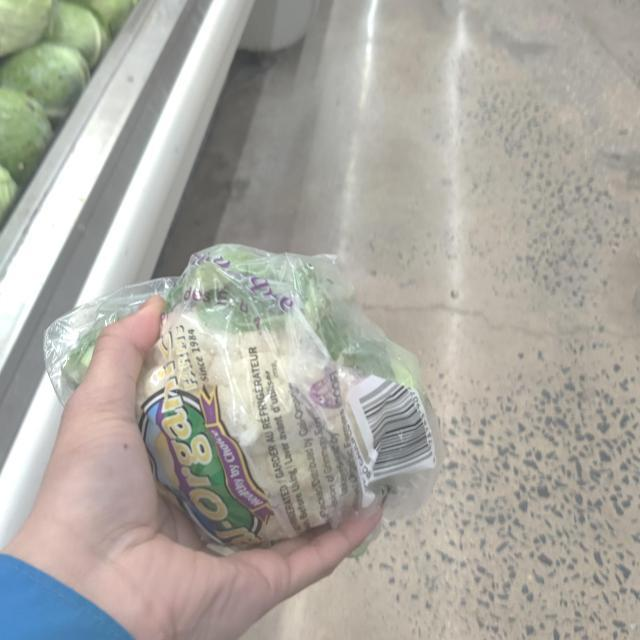Cabbage: (5, 48, 90, 115), (0, 84, 53, 175), (0, 0, 59, 52), (0, 159, 20, 257)
Cauliflower: (142, 242, 424, 549)
